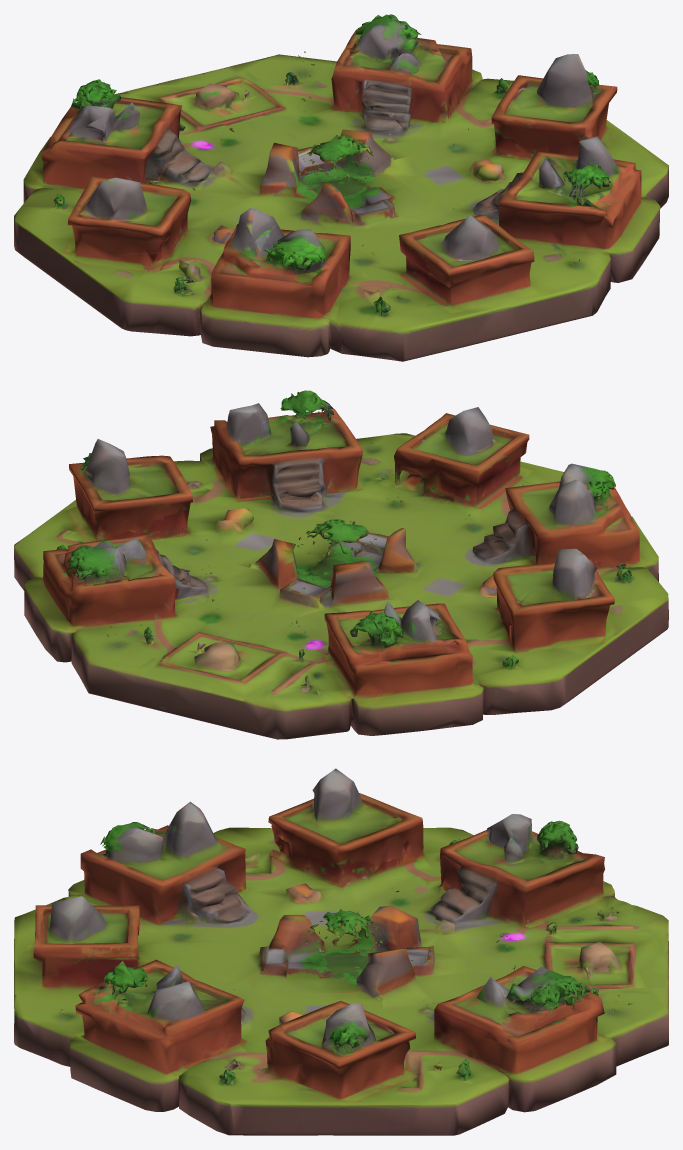
File: dm_blobgarden.glb
3 views of the same model, one above another, from view 1: azimuth 30°, elevation 25°; view 2: azimuth 150°, elevation 25°; view 3: azimuth 270°, elevation 25° (orthographic). The views are drawn at different scales.
Size of the model in its own units: 2 by 0.3789 by 2.
Materials: 1 (1 with a texture image).
